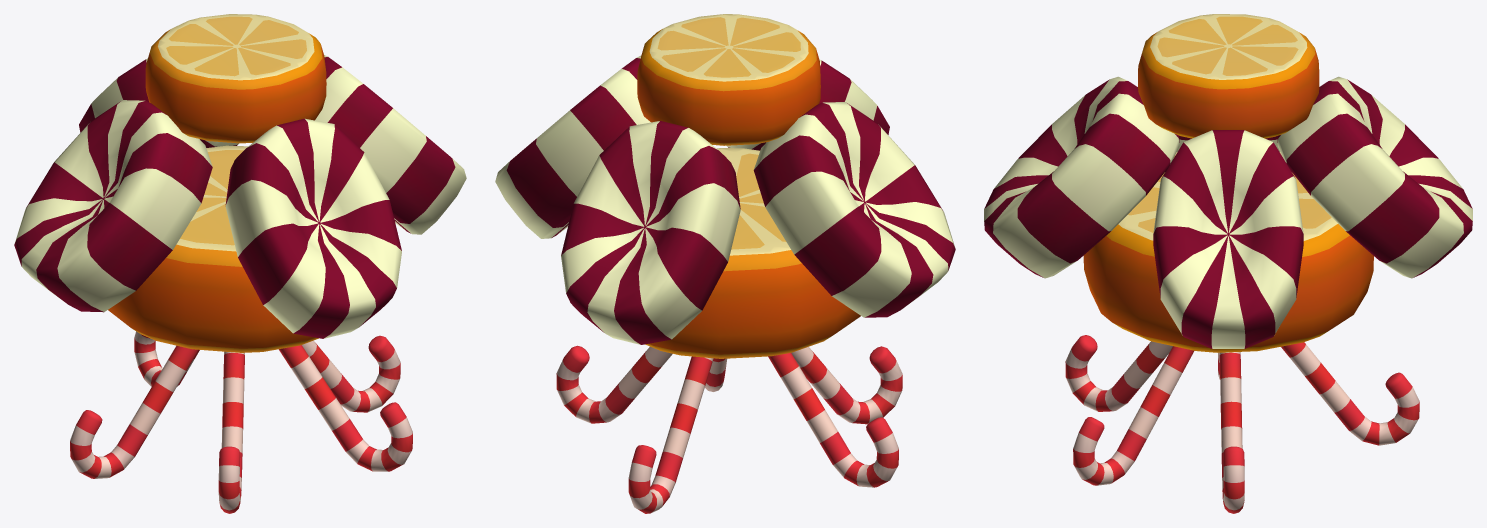
Rendered from cw_PlantsFlowers_11.fbx.
3 renders of one model, left to right at view 1: azimuth 30°, elevation 25°; view 2: azimuth 150°, elevation 25°; view 3: azimuth 270°, elevation 25°, orthographic.
Visible parts, largest first — view 1: cw_pf_11; view 2: cw_pf_11; view 3: cw_pf_11.
Boxes of the visible parts, x1,y1,x2,y2 form: cw_pf_11: [14, 14, 466, 513]; cw_pf_11: [495, 14, 955, 513]; cw_pf_11: [984, 14, 1472, 513].
Size of the model in its own units: 199 by 180 by 199.
